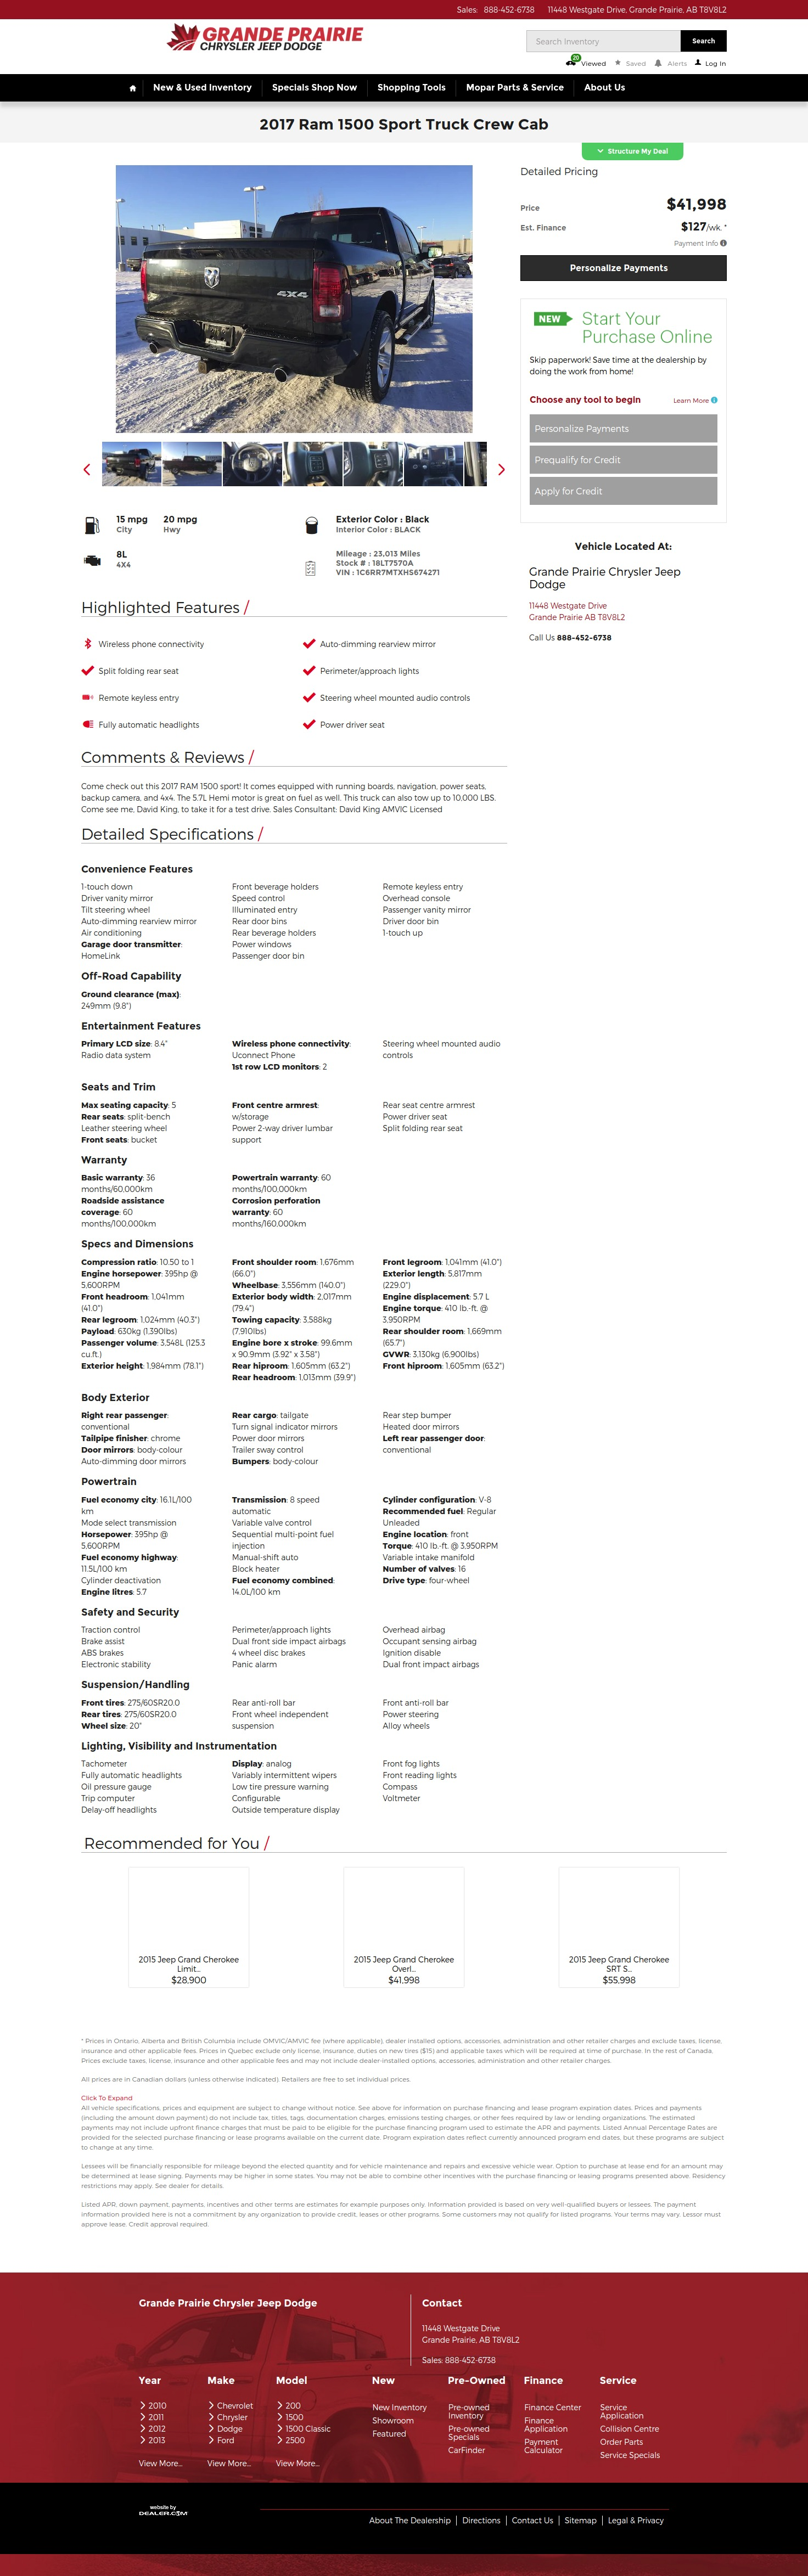car: (498, 463, 506, 476)
